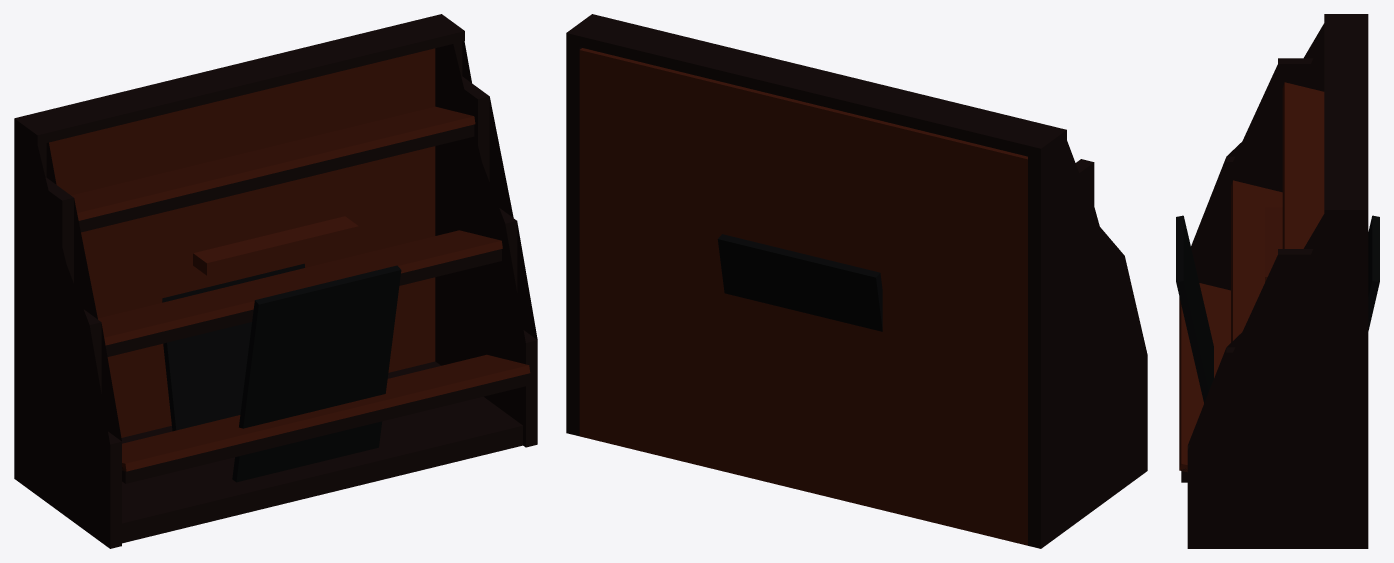
File: library_kit.glb
3 renders of one model, left to right at view 1: azimuth 30°, elevation 25°; view 2: azimuth 150°, elevation 25°; view 3: azimuth 270°, elevation 25°, orthographic. The views are drawn at different scales.
Parts seen in each view (by area): view 1: SM_LB_Display, SM_LB_Sign; view 2: SM_LB_Display, SM_LB_Sign; view 3: SM_LB_Display, SM_LB_Sign.
Boxes of the visible parts, box(x1,y1,x2,y2) form: SM_LB_Display: box(14, 14, 537, 548); SM_LB_Sign: box(162, 216, 401, 482); SM_LB_Display: box(566, 14, 1147, 548); SM_LB_Sign: box(717, 234, 882, 331); SM_LB_Display: box(1179, 14, 1368, 548); SM_LB_Sign: box(1176, 207, 1379, 403).
Size of the model in its own units: 1.8 by 1.45 by 0.7899.
Materials: 2 (2 with a texture image).
